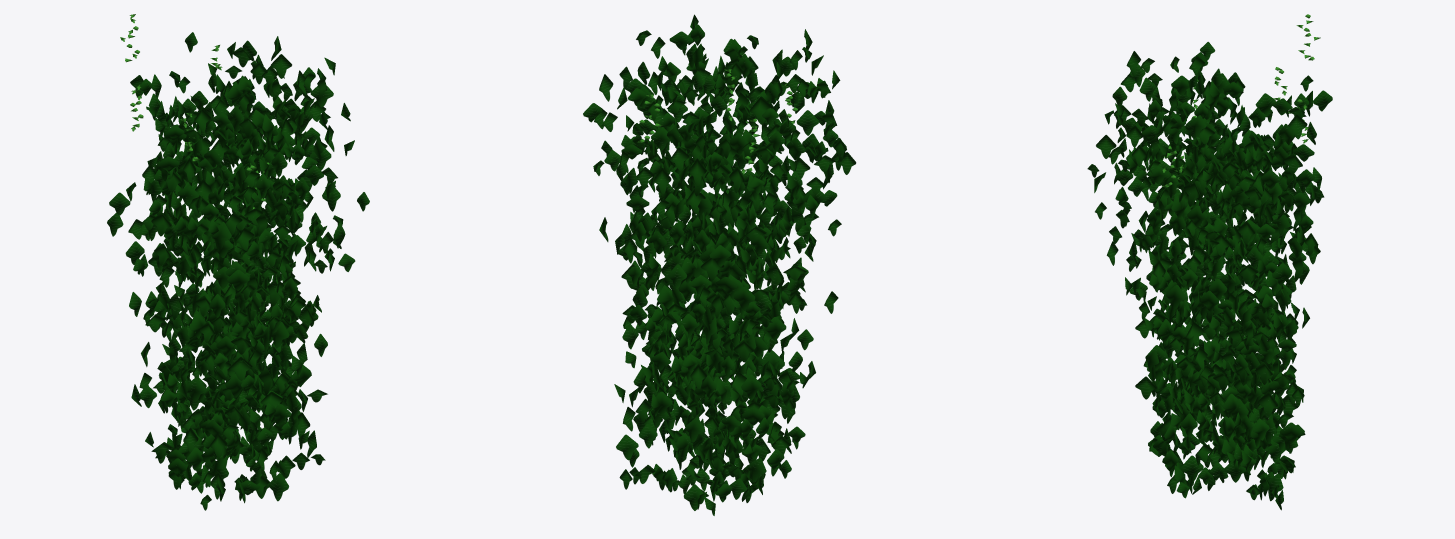
The model's file is Shrub_SweetPepperbush.glb.
3 renders of one model, left to right at view 1: azimuth 30°, elevation 25°; view 2: azimuth 150°, elevation 25°; view 3: azimuth 270°, elevation 25°, orthographic. The views are drawn at different scales.
Visible parts, largest first — view 1: Shrub_SweetPepperbush; view 2: Shrub_SweetPepperbush; view 3: Shrub_SweetPepperbush.
Part boxes in pixels (box(x1,y1,x2,y2)): Shrub_SweetPepperbush: box(107, 14, 369, 510); Shrub_SweetPepperbush: box(583, 14, 856, 515); Shrub_SweetPepperbush: box(1087, 14, 1332, 510).
Bounding box in the file's own units: 1.72 × 2.17 × 1.74.
1 material, 1 textured.
